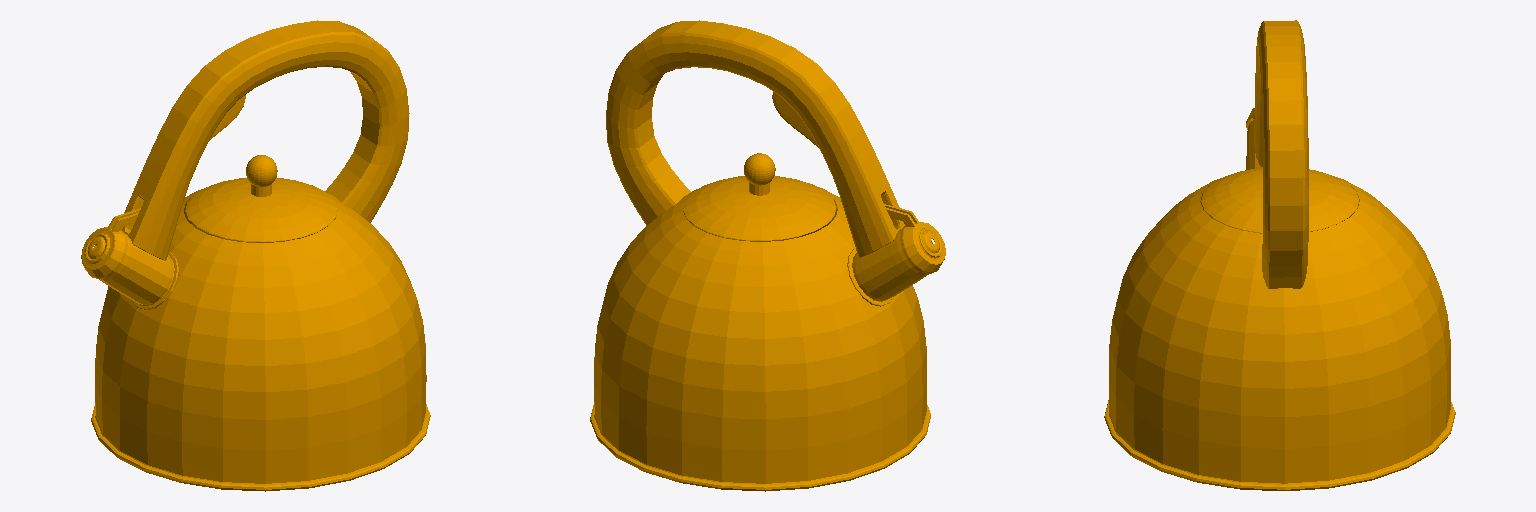
The robot description file, URDF, robot "none":
<robot name="none">
       <link name="none">
           <visual>
               <origin rpy="1.57 0 0" xyz="0 0 0" />
               <geometry>
                   <mesh filename="boiler.obj" />
               </geometry>
           </visual>
          <collision>
              <geometry>
                  <box size="0.894377 1.000000 0.810939" />
              </geometry>
          </collision>

          <inertial>
            <mass value="0.0" />
            <inertia ixx="0.0" ixy="0.0" ixz="0.0" iyy="0.0" iyz="0.0" izz="0.0" />
          </inertial>
      </link>
  </robot>

--- What the picture shows (computed from the rendered views, not written in the file) ---
Views: 3 orthographic renders of the robot side by side, from view 1: azimuth 30°, elevation 25°; view 2: azimuth 150°, elevation 25°; view 3: azimuth 270°, elevation 25°.
Model none with 1 links and 0 joints (none), rooted at none, posed all joints at 0.
Visible links, largest first — view 1: none; view 2: none; view 3: none.
Link boxes in pixels (left/top/right/bottom): none: left=81, top=20, right=430, bottom=491; none: left=590, top=20, right=945, bottom=491; none: left=1104, top=20, right=1455, bottom=490.
Size in the robot's own frame: 0.8944 by 0.8109 by 1 metres.
1 mesh visuals loaded from 1 distinct referenced files (1 OBJ).